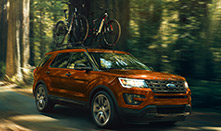Ford Explorer: (32, 45, 196, 131)
